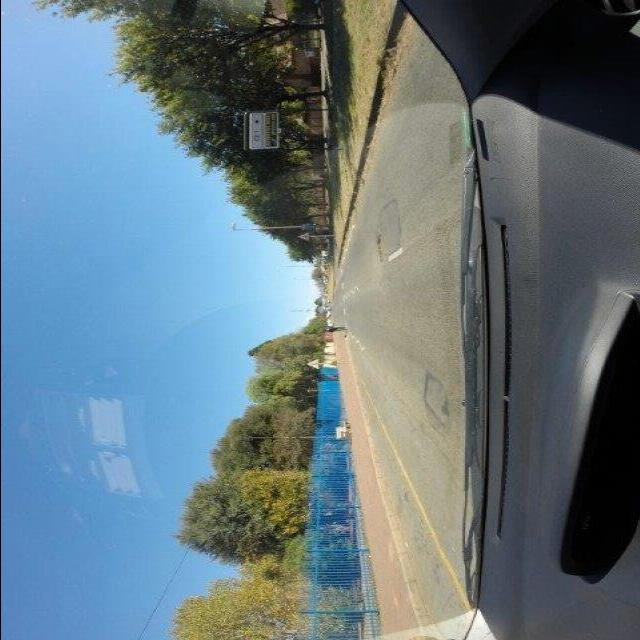lubang: (371, 234, 385, 261)
